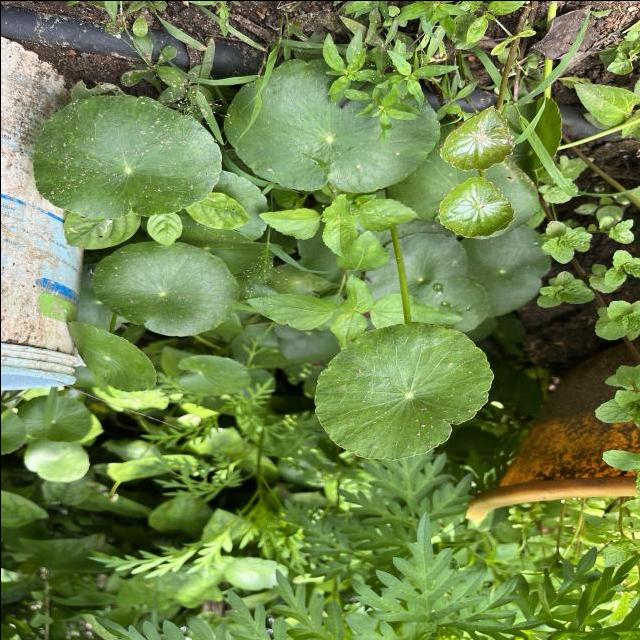Bacopa monnieri: (311, 318, 499, 462), (30, 91, 223, 222), (88, 238, 242, 339), (64, 318, 159, 396), (435, 102, 517, 172), (434, 172, 516, 240)
